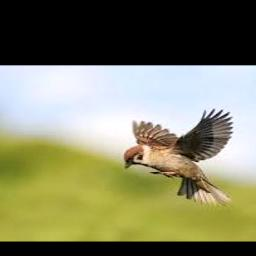Sparrow: (123, 109, 232, 206)
